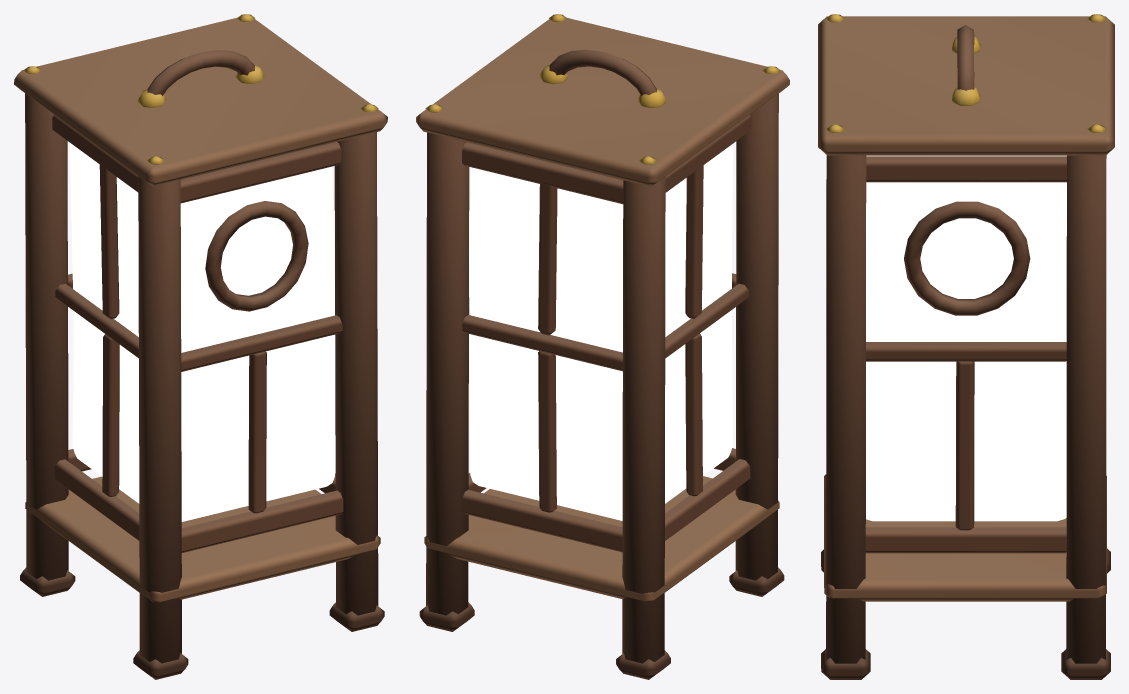
Rendered from furn-andonLamp.glb.
The picture shows the model from 3 angles, left to right: view 1: azimuth 30°, elevation 25°; view 2: azimuth 150°, elevation 25°; view 3: azimuth 270°, elevation 25°; orthographic projection. The views are drawn at different scales.
Visible parts, largest first — view 1: furn-andonLamp; view 2: furn-andonLamp; view 3: furn-andonLamp.
Part boxes in pixels (x1,y1,x2,y2): furn-andonLamp: (14,14,387,679); furn-andonLamp: (416,14,789,679); furn-andonLamp: (818,14,1114,679).
Bounding box in the file's own units: 0.42 × 0.9175 × 0.4201.
